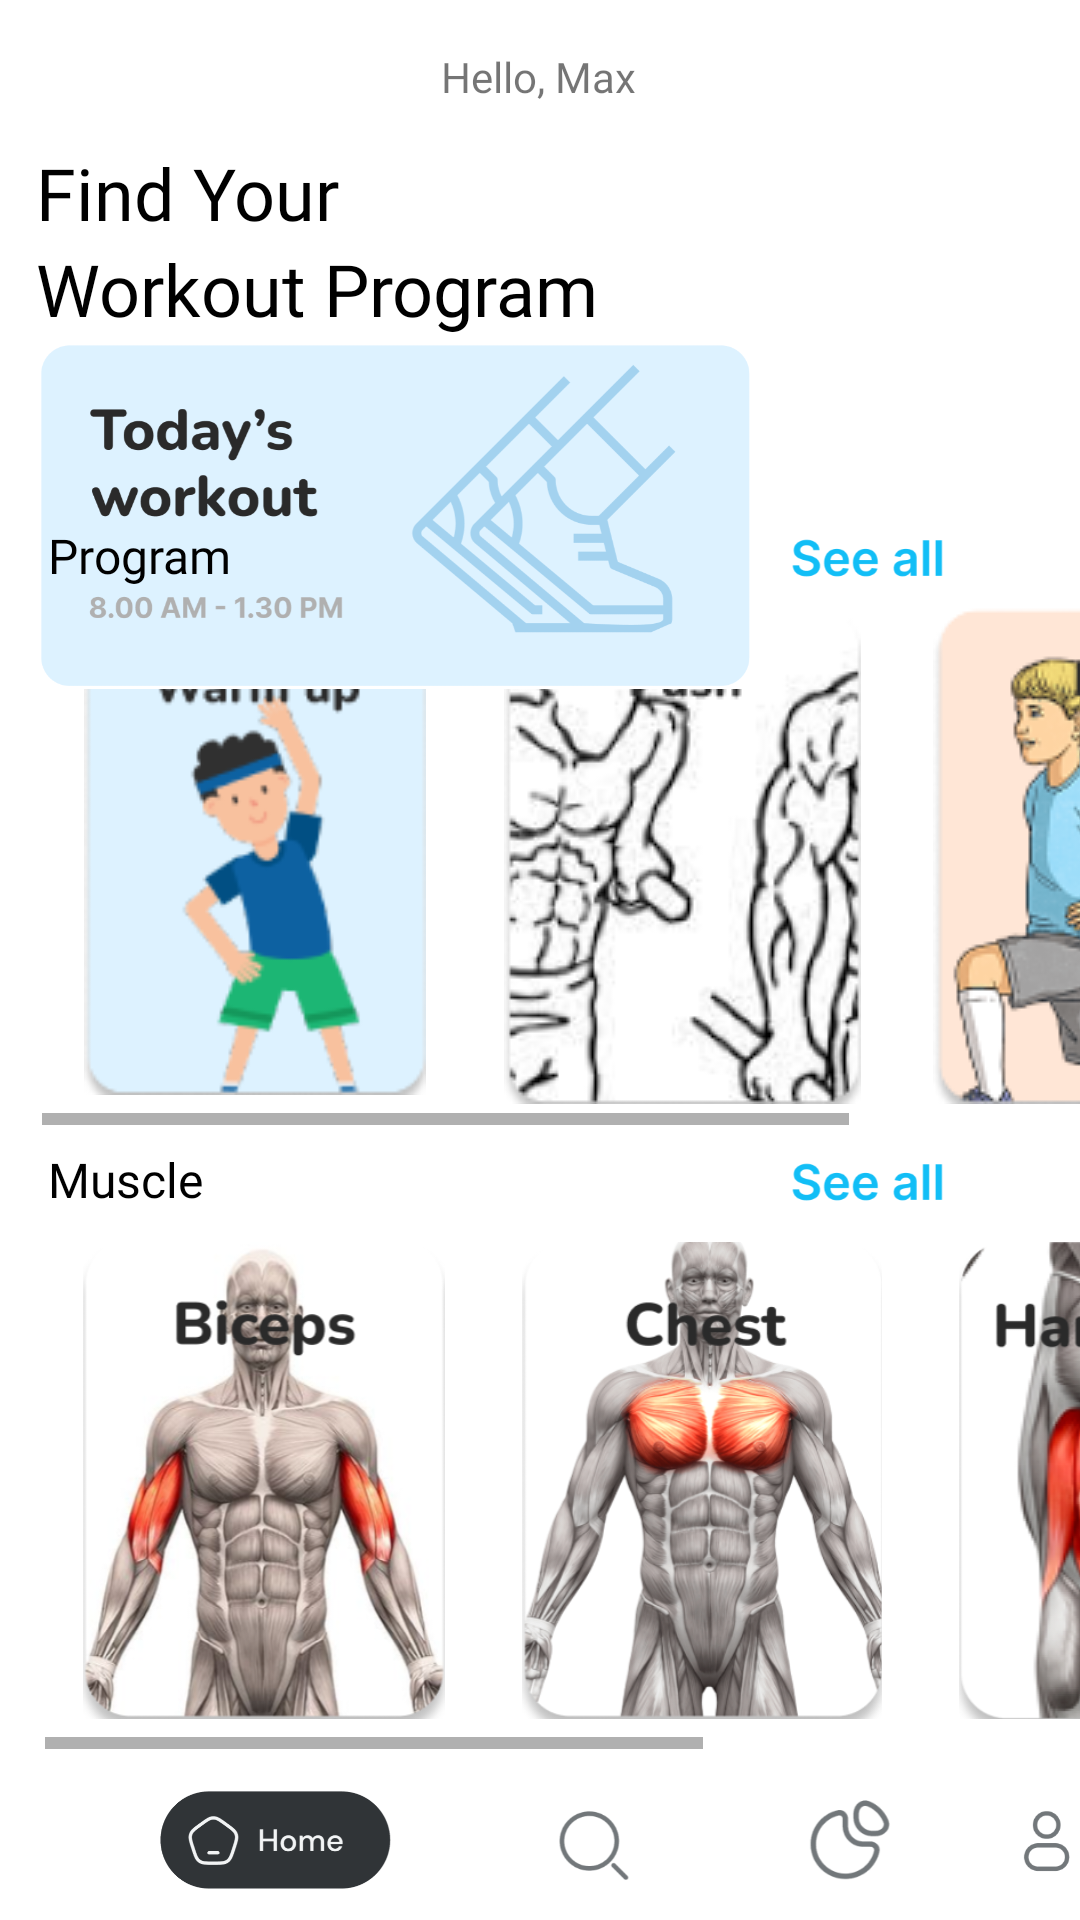

Icon bounding boxes for this 1080x1920 phone screenshot, format (x1, y1, x2, y2):
search: (559, 1811, 629, 1880)
